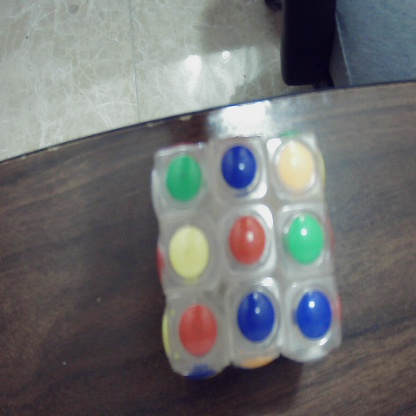Rubix Cube: (151, 138, 346, 364)
